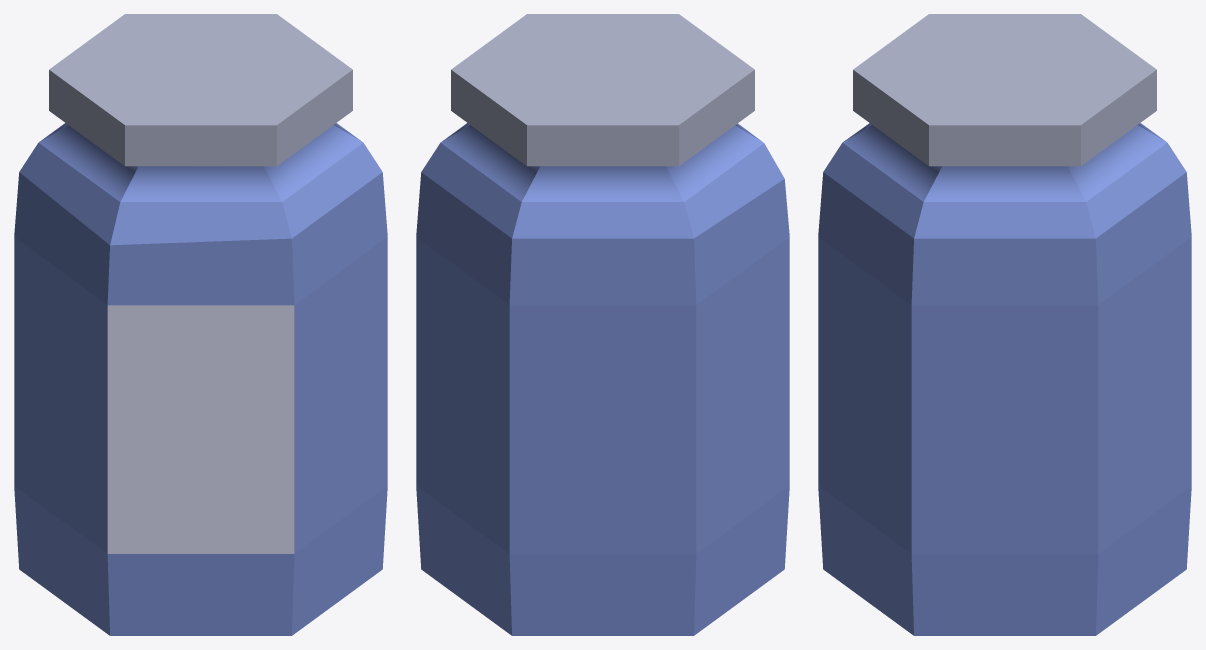
Rendered from Jar.FBX.
3 renders of one model, left to right at view 1: azimuth 30°, elevation 25°; view 2: azimuth 150°, elevation 25°; view 3: azimuth 270°, elevation 25°, orthographic.
Parts seen in each view (by area): view 1: Jar_1; view 2: Jar_1; view 3: Jar_1.
Part boxes in pixels (bbox=[...]): Jar_1: bbox=[14, 14, 387, 635]; Jar_1: bbox=[416, 14, 789, 635]; Jar_1: bbox=[818, 14, 1191, 635].
Bounding box in the file's own units: 10.39 × 17.7 × 11.99.
